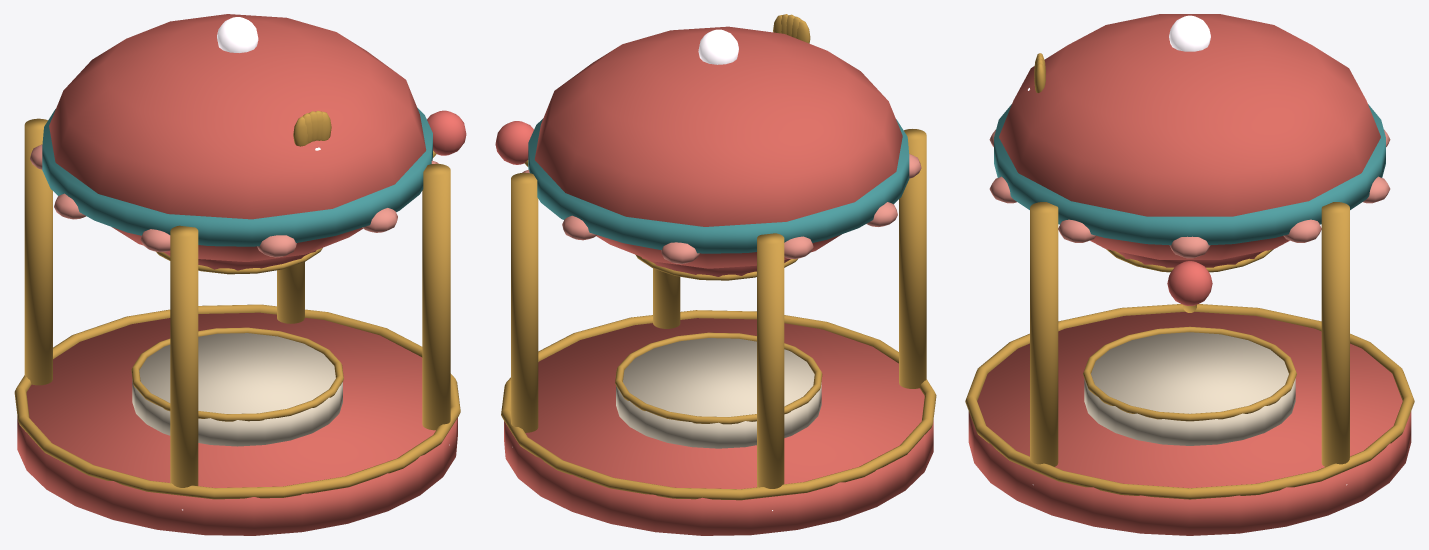
Rendered from opera_candymaker_press.glb.
The picture shows the model from 3 angles, left to right: view 1: azimuth 30°, elevation 25°; view 2: azimuth 150°, elevation 25°; view 3: azimuth 270°, elevation 25°; orthographic projection. The views are drawn at different scales.
Visible parts, largest first — view 1: VisualMesh, Plate, PlateTrim; view 2: VisualMesh, Plate, PlateTrim; view 3: VisualMesh, Plate, PlateTrim.
Boxes of the visible parts, x1,y1,x2,y2 form: VisualMesh: [14, 14, 466, 535]; Plate: [163, 250, 316, 270]; PlateTrim: [156, 248, 322, 274]; VisualMesh: [495, 14, 936, 535]; Plate: [642, 257, 790, 276]; PlateTrim: [635, 254, 797, 280]; VisualMesh: [965, 14, 1414, 535]; Plate: [1111, 250, 1268, 267]; PlateTrim: [1106, 249, 1273, 272].
Bounding box in the file's own units: 9.66 × 9.32 × 8.94.
